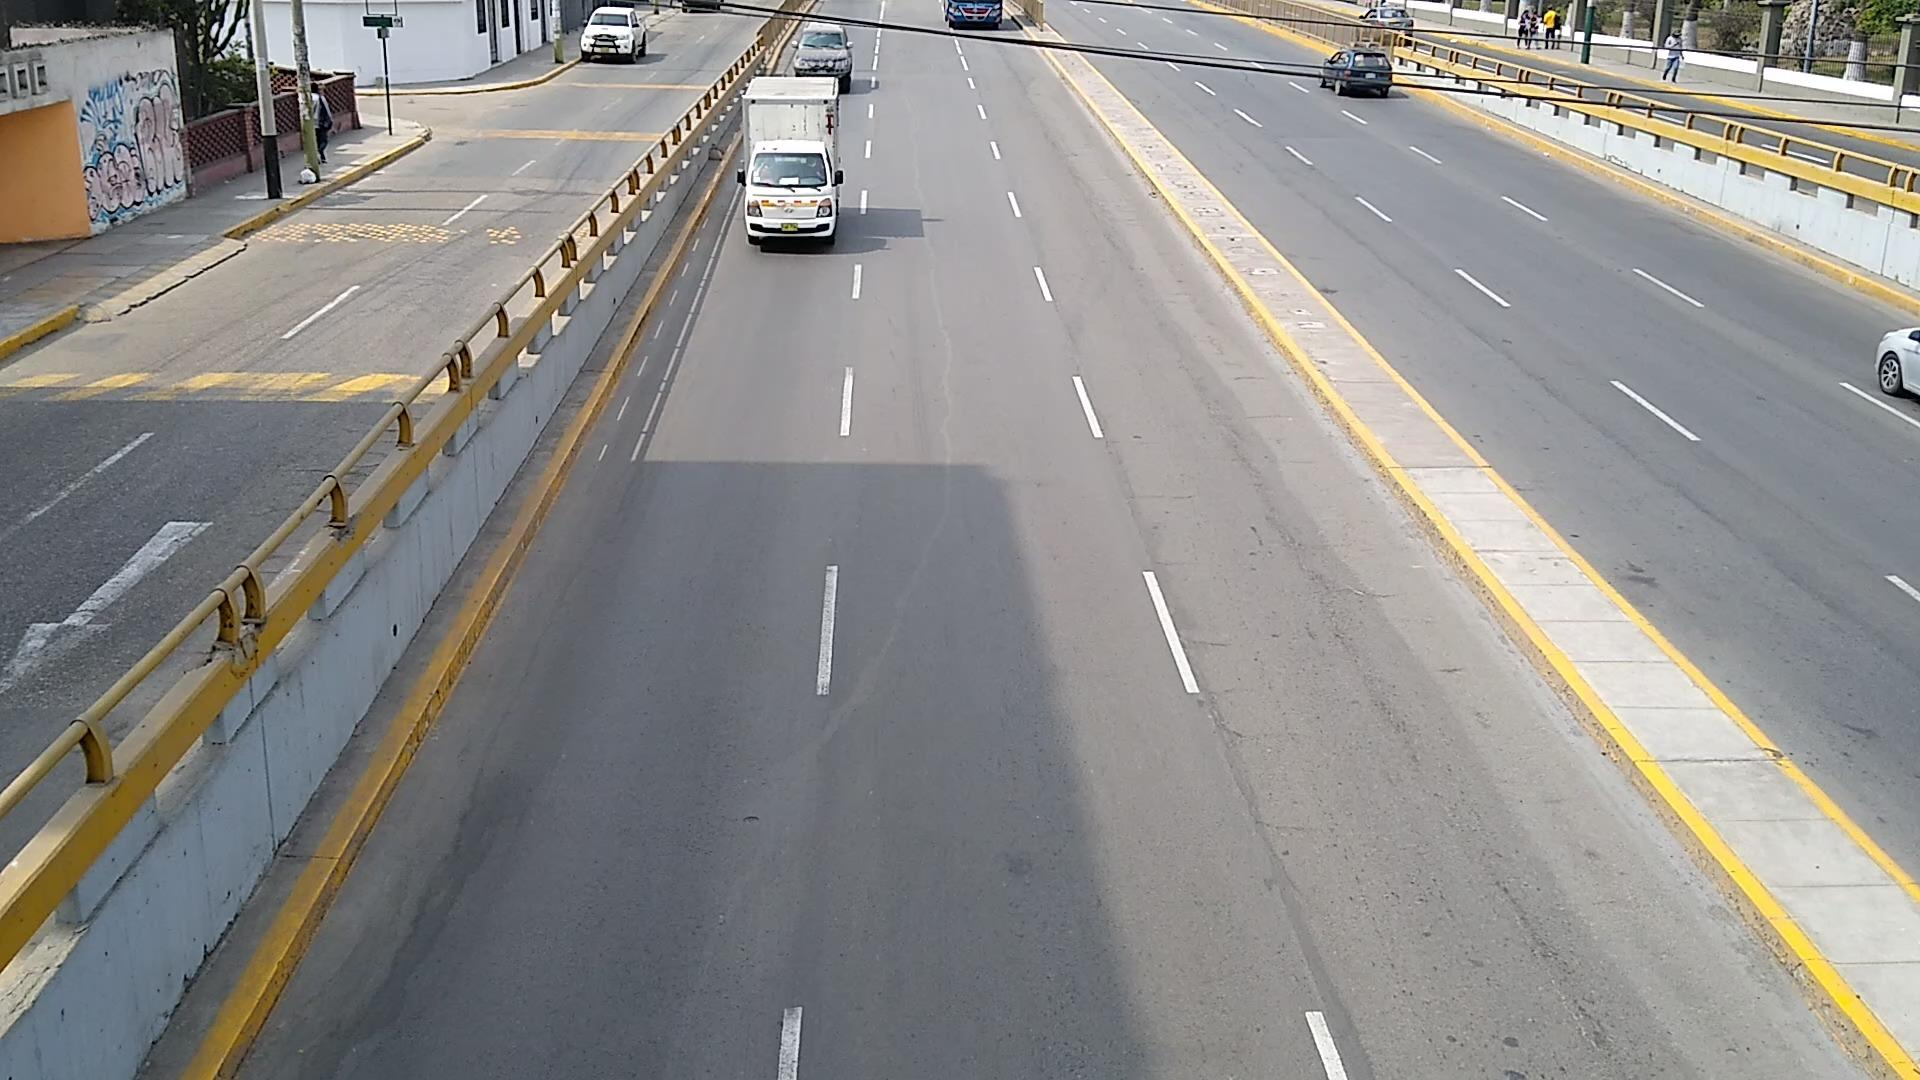car: (791, 22, 852, 92), (1320, 45, 1391, 98), (582, 4, 645, 58), (945, 0, 1001, 28)
lorry: (738, 75, 844, 244)
